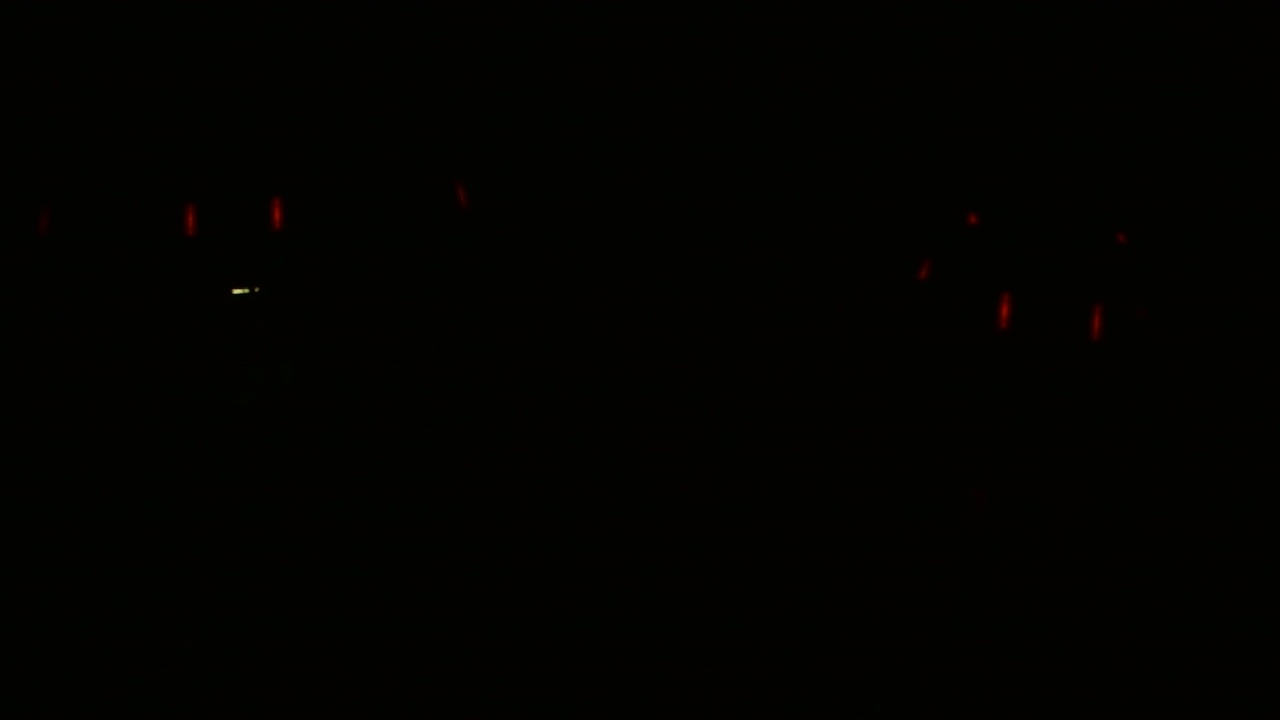pair1: (181, 191, 284, 238)
